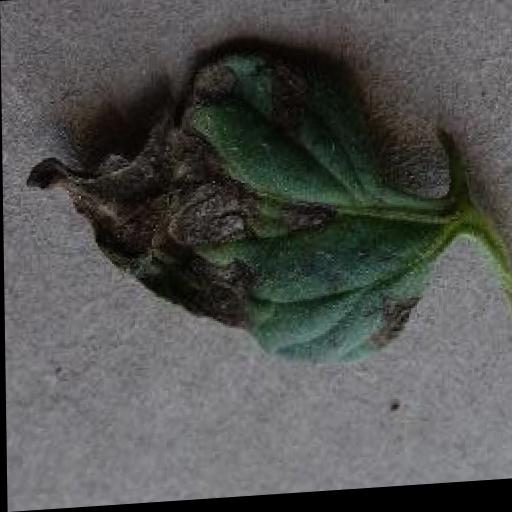Early Blight: (26, 43, 432, 384)
